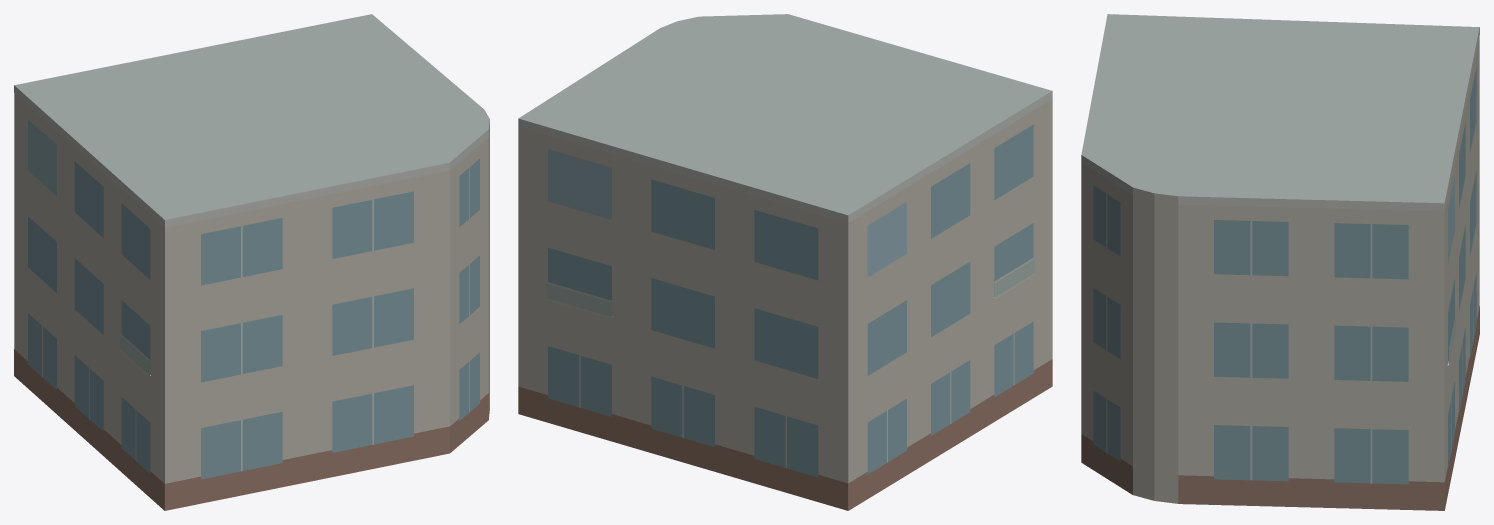
Rendered from survey-upis-32801823.glb.
3 views of the same model, side by side, from view 1: azimuth 30°, elevation 25°; view 2: azimuth 150°, elevation 25°; view 3: azimuth 270°, elevation 25° (orthographic). The views are drawn at different scales.
Parts seen in each view (by area): view 1: survey-upis-32801823.tmp; view 2: survey-upis-32801823.tmp; view 3: survey-upis-32801823.tmp.
Boxes of the visible parts, x1,y1,x2,y2 form: survey-upis-32801823.tmp: [14, 14, 489, 510]; survey-upis-32801823.tmp: [518, 14, 1052, 510]; survey-upis-32801823.tmp: [1081, 14, 1479, 510].
Size of the model in its own units: 12.08 by 9.15 by 10.75.
